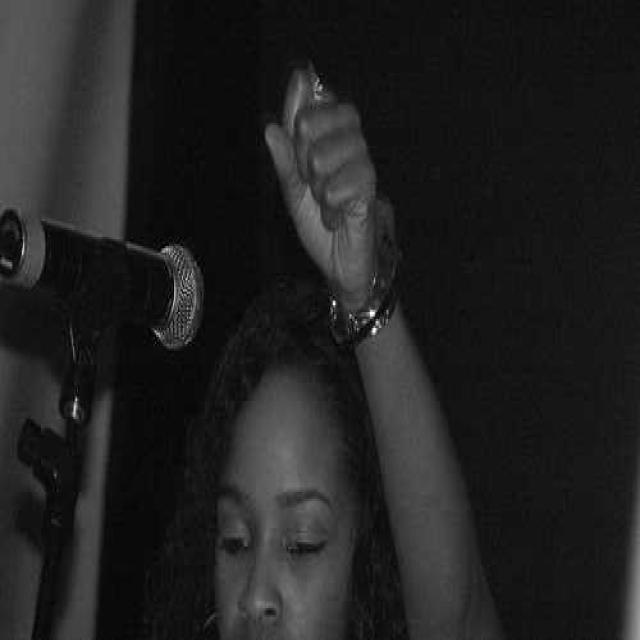microphone: (2, 195, 207, 357)
